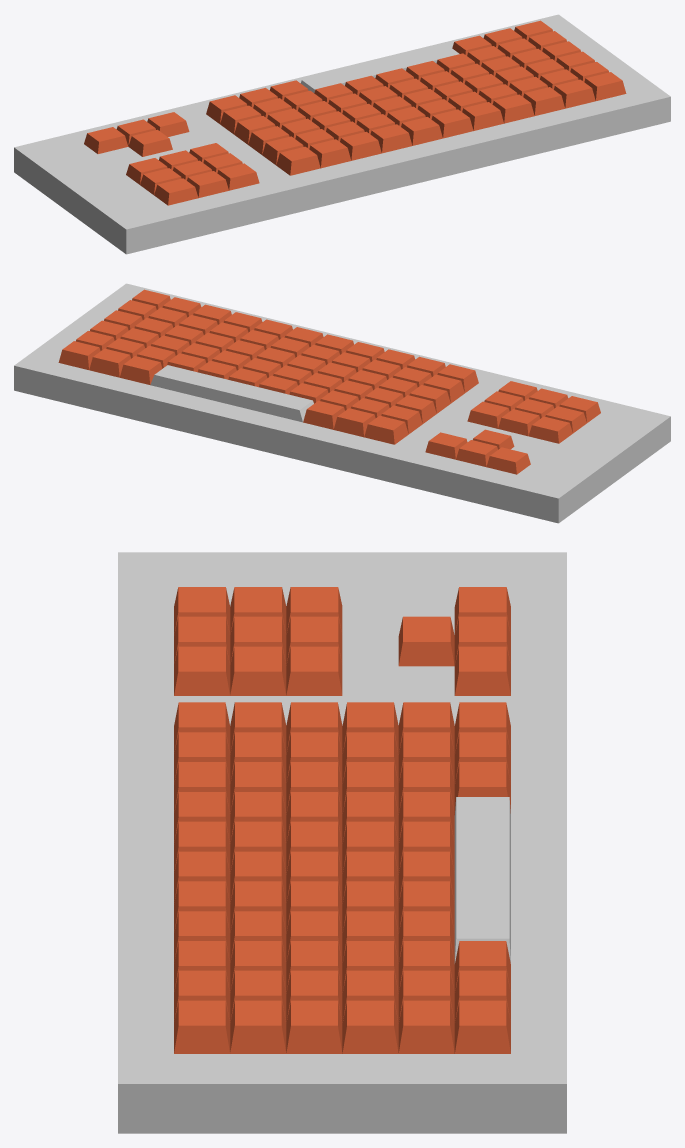
Rendered from Keyboard.fbx.
3 views of the same model, one above another, from view 1: azimuth 30°, elevation 25°; view 2: azimuth 150°, elevation 25°; view 3: azimuth 270°, elevation 25° (orthographic). The views are drawn at different scales.
Visible parts, largest first — view 1: Cube.063; view 2: Cube.063; view 3: Cube.063.
Part boxes in pixels (x1,y1,x2,y2): Cube.063: (14, 14, 670, 254); Cube.063: (14, 283, 670, 523); Cube.063: (118, 552, 566, 1133).
Bounding box in the file's own units: 65.24 × 4.34 × 23.3.
